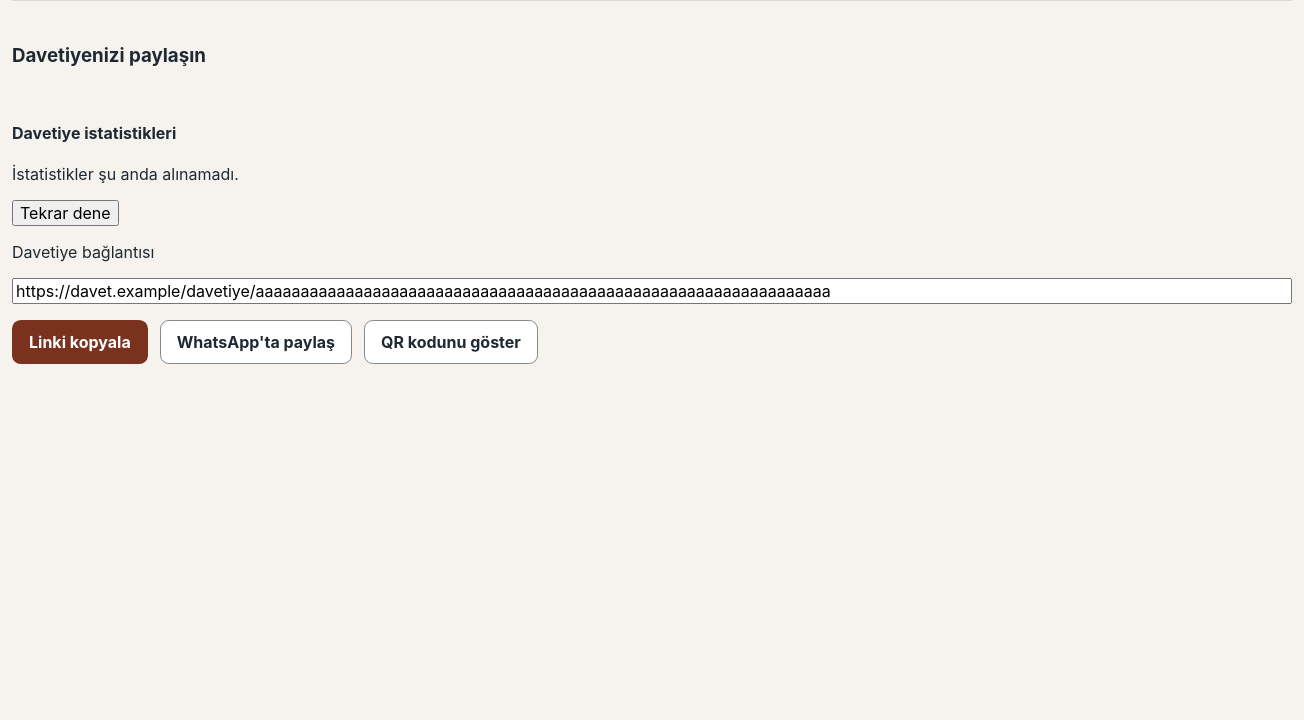
Test: CreatorSharePanel aggregate statistics › announces loading and offers a retry after a request error
This screenshot has width=1304, height=720.
Expected: the message "İstatistikler şu anda alınamadı. Tekrar dene" is shown, top-left (12, 164), bottom-right (239, 226)
Click the button "Tekrar dene" at (65, 213), box top-left (12, 200), bottom-right (119, 226)
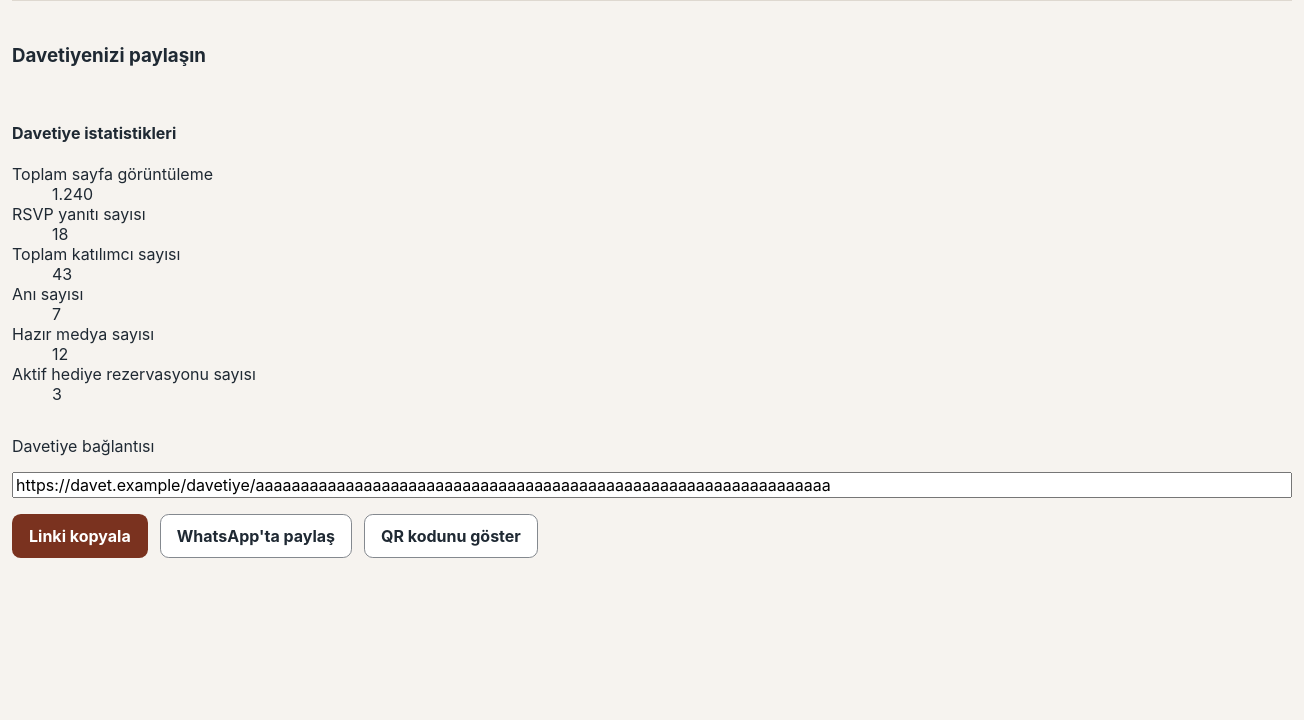
Now the text "43" is shown, box top-left (52, 264), bottom-right (72, 284)
